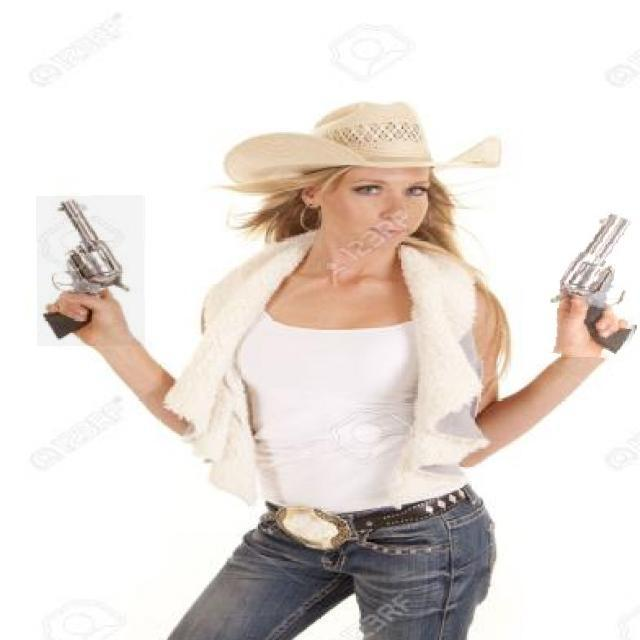handgun: (37, 196, 146, 346), (544, 203, 640, 359)
